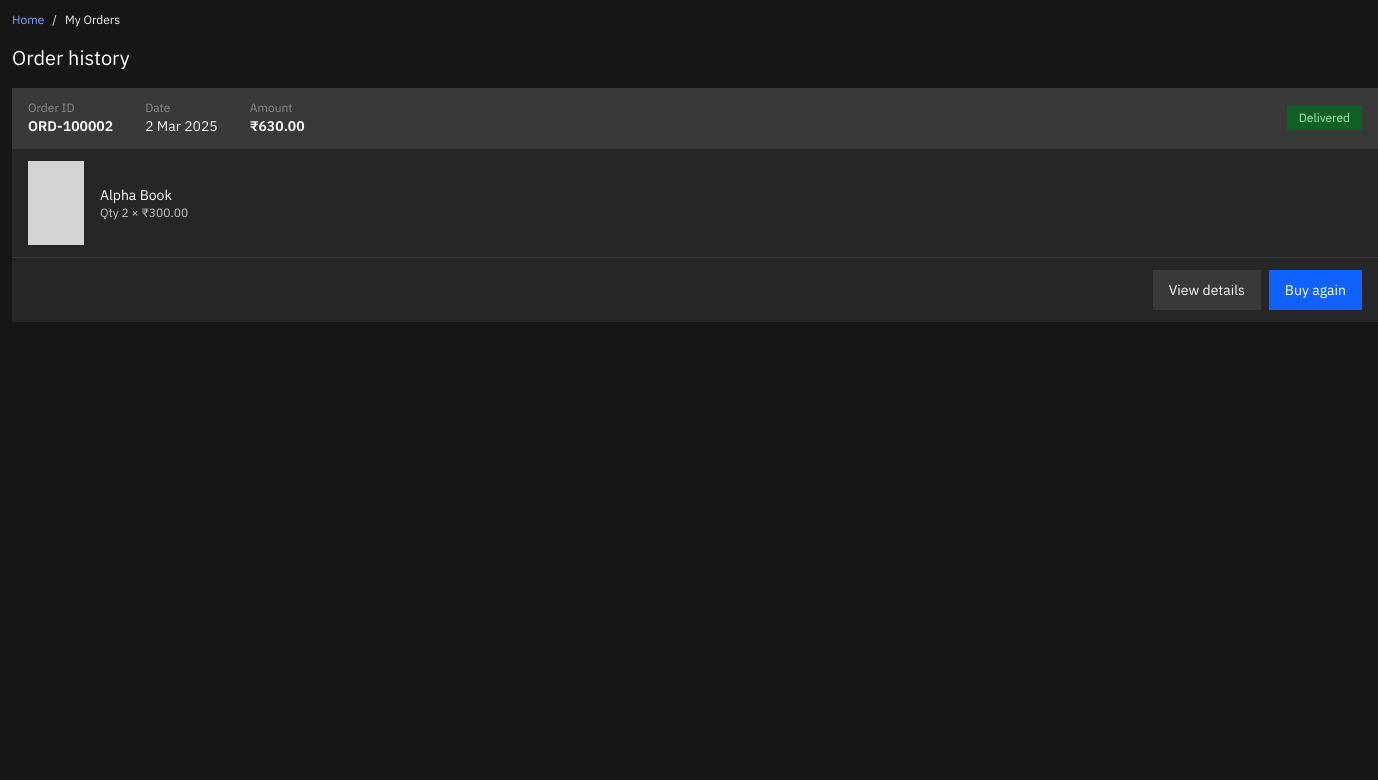
Test: OrderHistoryPage › Buy again recreates the cart and redirects to the cart page
Click the button "Buy again". click: (1315, 290)
box: left=1269, top=270, right=1362, bottom=310
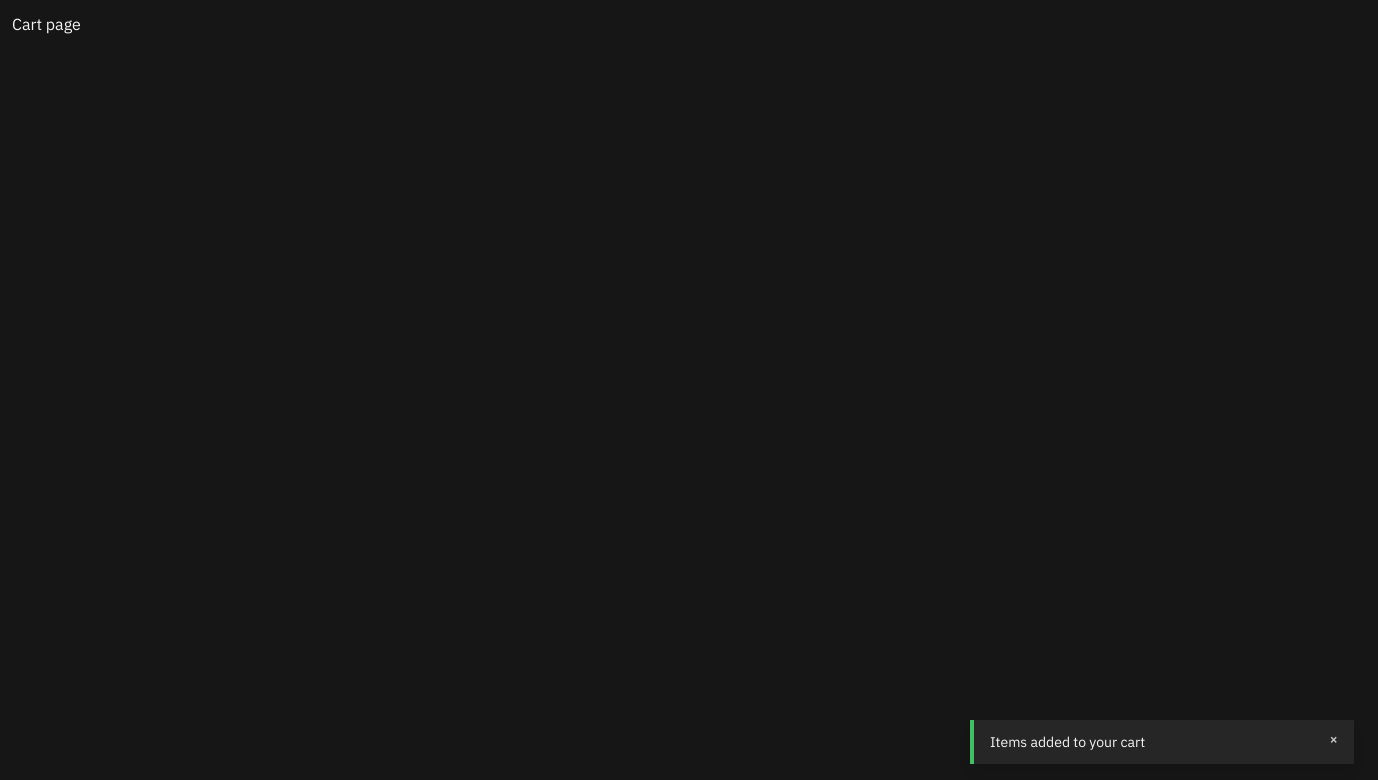
Now the text "Cart page" is shown, box left=12, top=14, right=81, bottom=34
